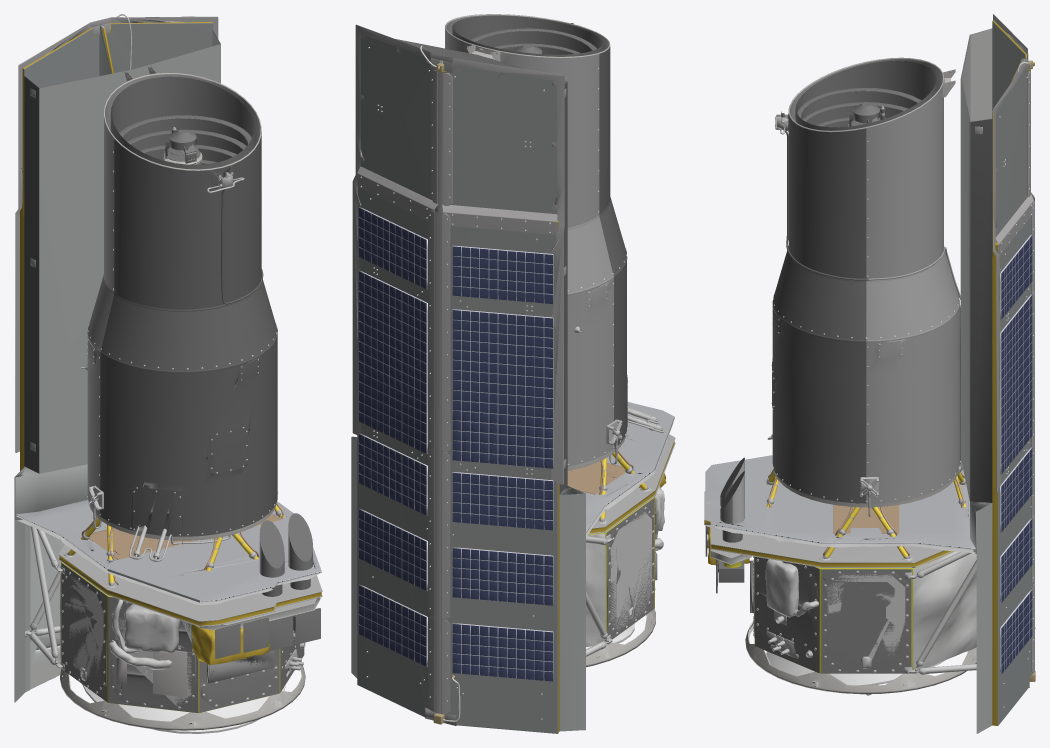
File: spitzer-space-telescope.glb
3 views of the same model, side by side, from view 1: azimuth 30°, elevation 25°; view 2: azimuth 150°, elevation 25°; view 3: azimuth 270°, elevation 25° (orthographic). The views are drawn at different scales.
Visible parts, largest first — view 1: Fake; view 2: Fake; view 3: Fake.
Boxes of the visible parts, box(x1,y1,x2,y2) form: Fake: box(14, 14, 322, 733); Fake: box(351, 14, 675, 733); Fake: box(704, 14, 1035, 733).
Bounding box in the file's own units: 1.62 × 4.49 × 2.11.
